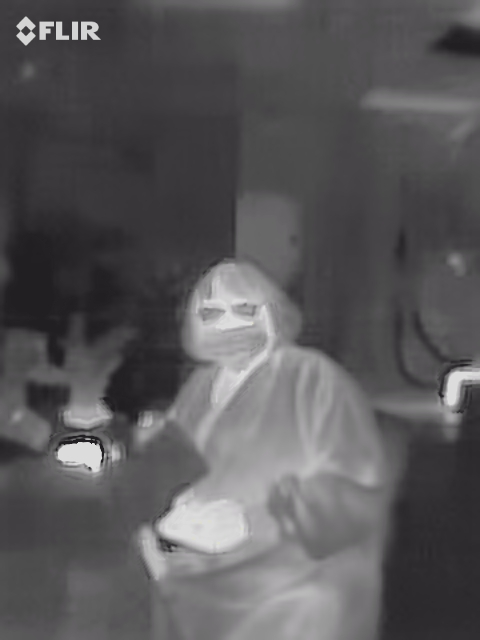head: (178, 257, 302, 372)
